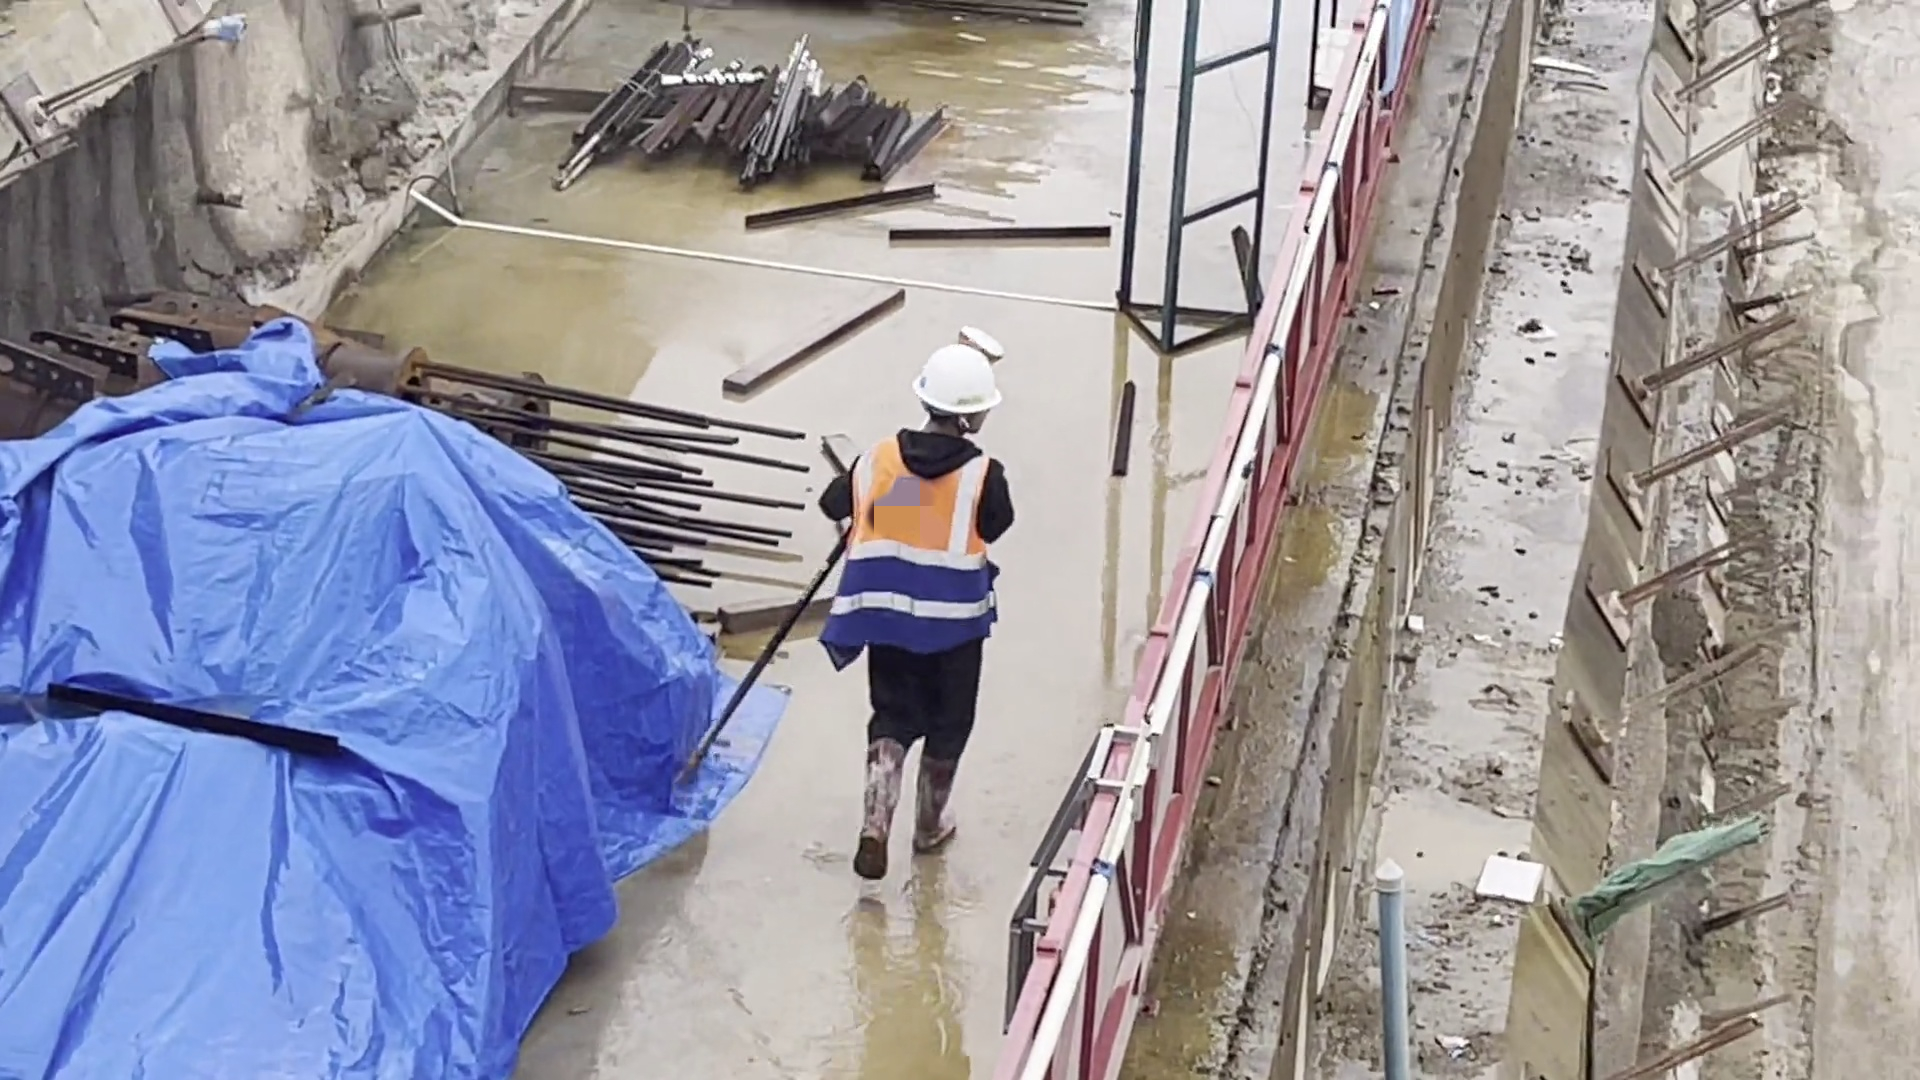fence: (965, 793, 1171, 1080), (1179, 219, 1323, 627), (1087, 568, 1242, 916), (1285, 1, 1422, 308)
helmet: (906, 334, 1011, 423)
person: (801, 334, 1035, 893)
vest: (819, 424, 1015, 687)
